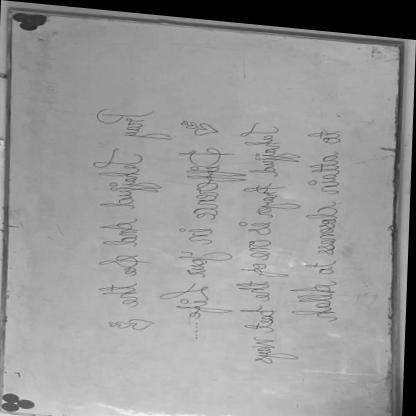Handwritten text: (77, 94, 165, 308), (228, 112, 299, 363), (291, 112, 365, 332), (163, 137, 242, 317)
Whiteboard: (0, 9, 411, 416)
